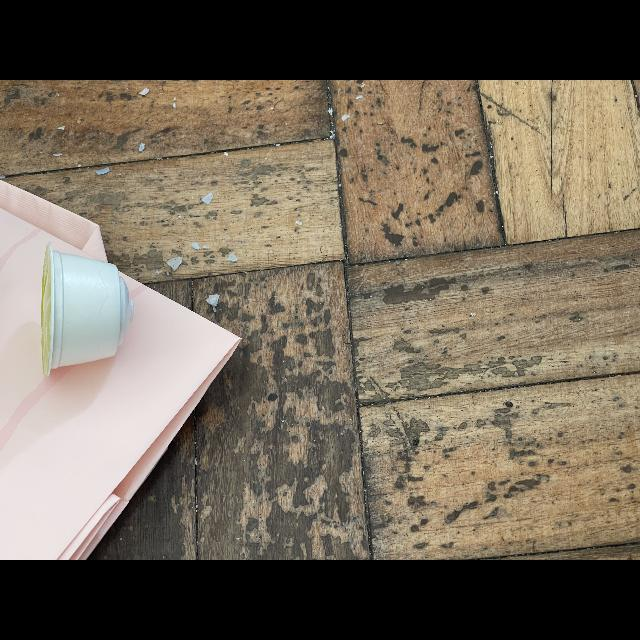intact_capsule: (34, 234, 146, 390)
